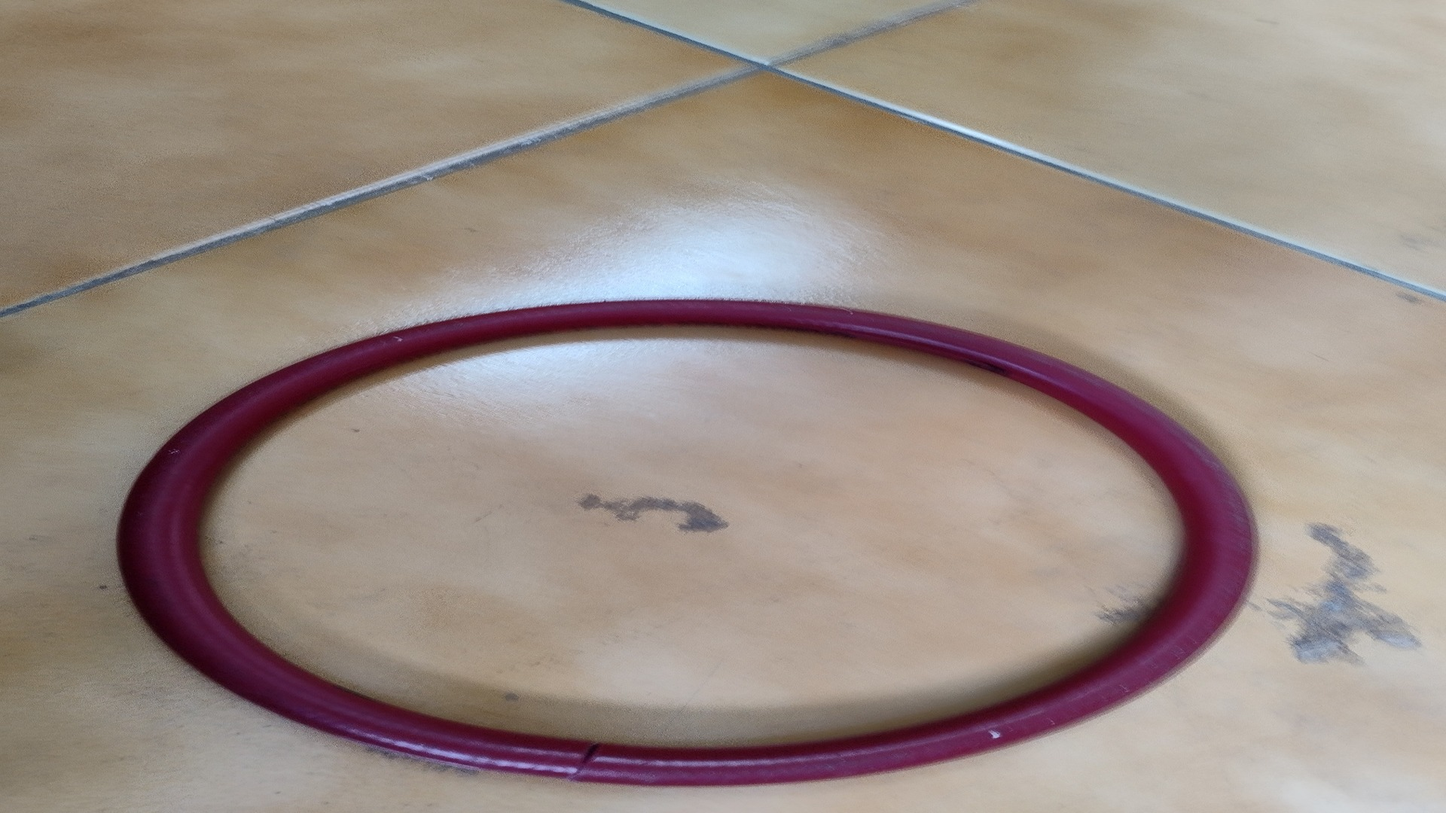Red ring: (119, 298, 1260, 786)
